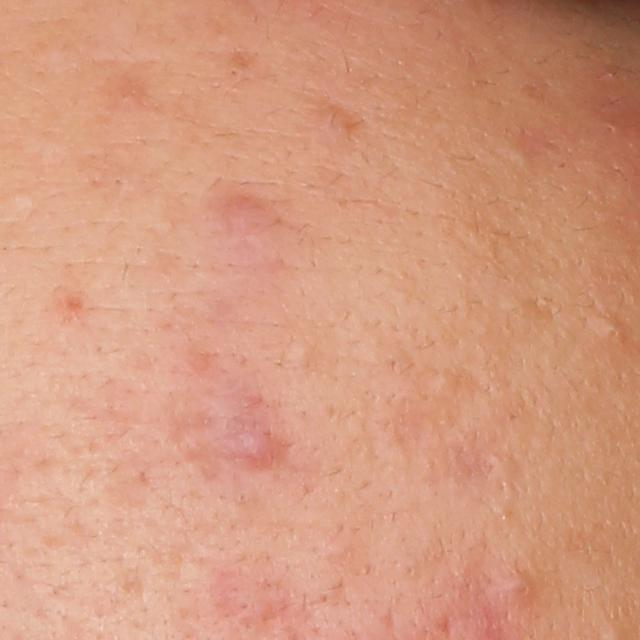comedo: (597, 318, 621, 345)
papule: (217, 416, 277, 467)
